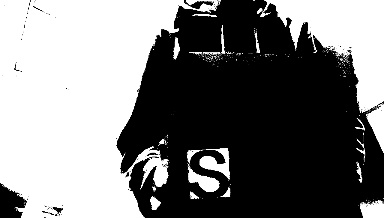S: (186, 147, 229, 197)
